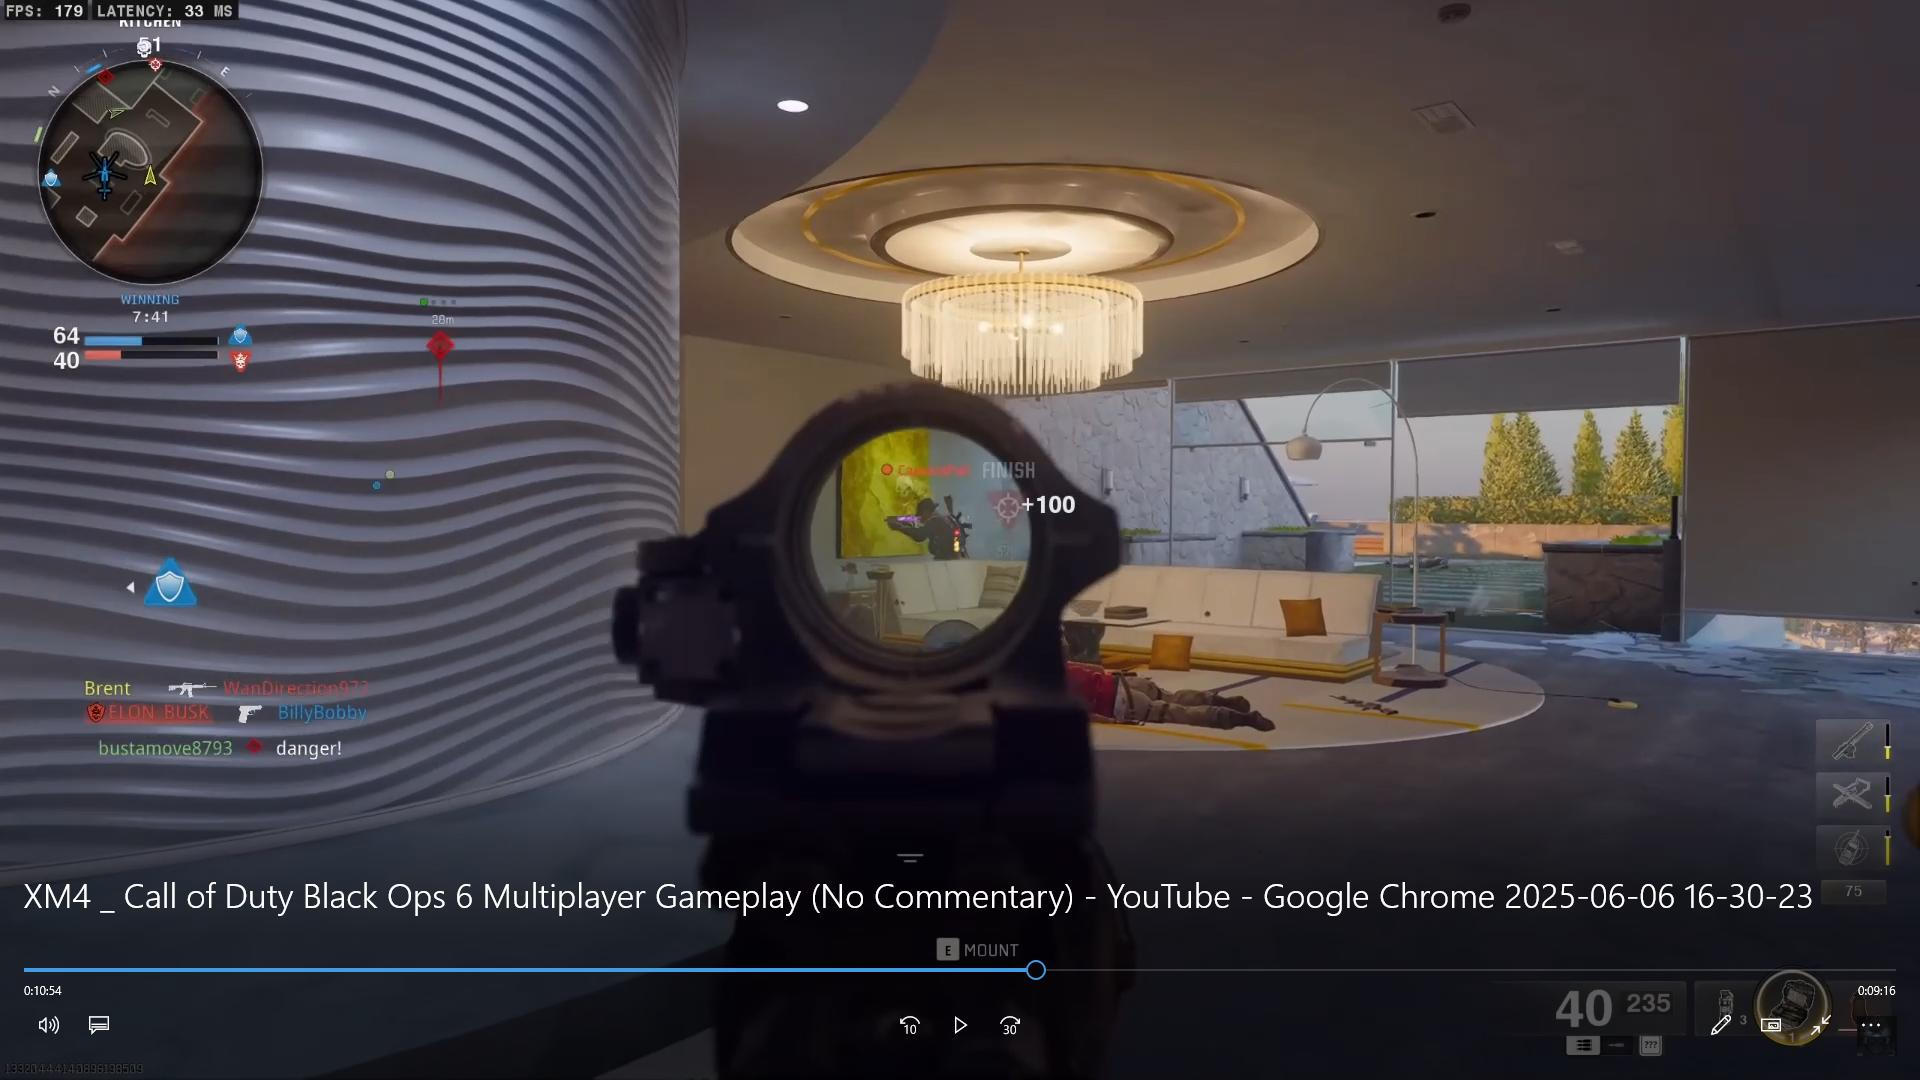Enemy: (874, 451, 984, 563)
